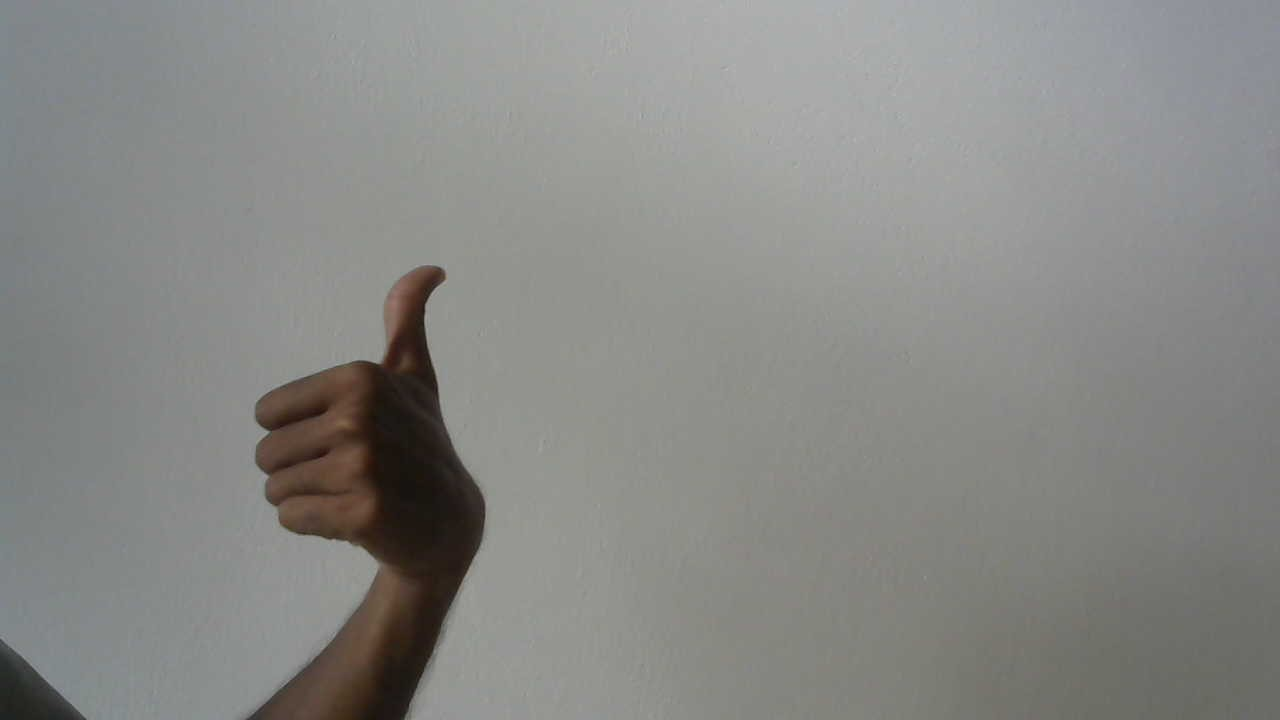thumbsup: (236, 258, 515, 588)
